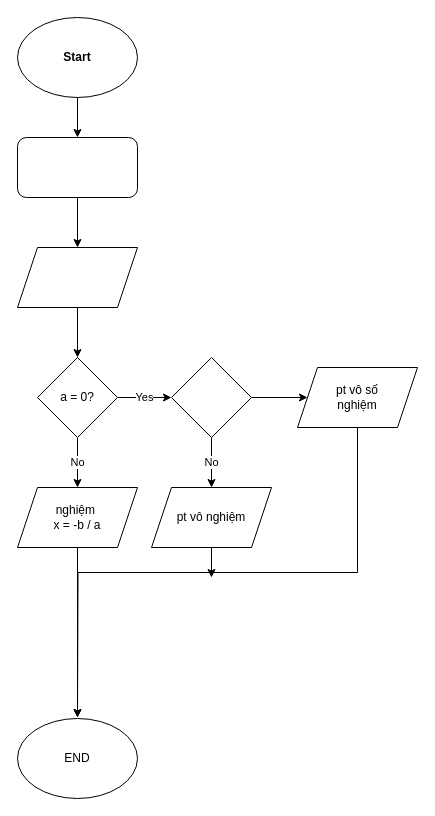
Some shapes in this 435 by 816 pixel diagram are drawn without their labels. The centre of each missing label's shape, as x and y in pixels:
"b = 0?" belongs at [211,397].
"float a; float b;" belongs at [77,167].
"Nhâp vào a, b" belongs at [77,277].
